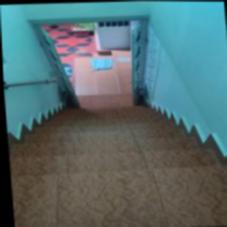Animal: (22, 83, 190, 185)
